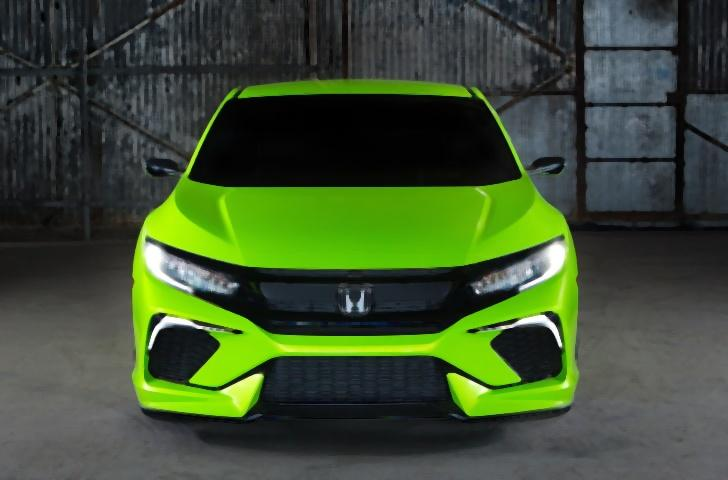Car hood: (136, 177, 576, 270)
Front bumper: (125, 277, 588, 428)
Headlight - -L-: (465, 228, 577, 304)
Headlight - -R-: (136, 230, 248, 302)
Side mirror - -L-: (518, 150, 570, 188)
Side mirror - -R-: (139, 150, 186, 181)
